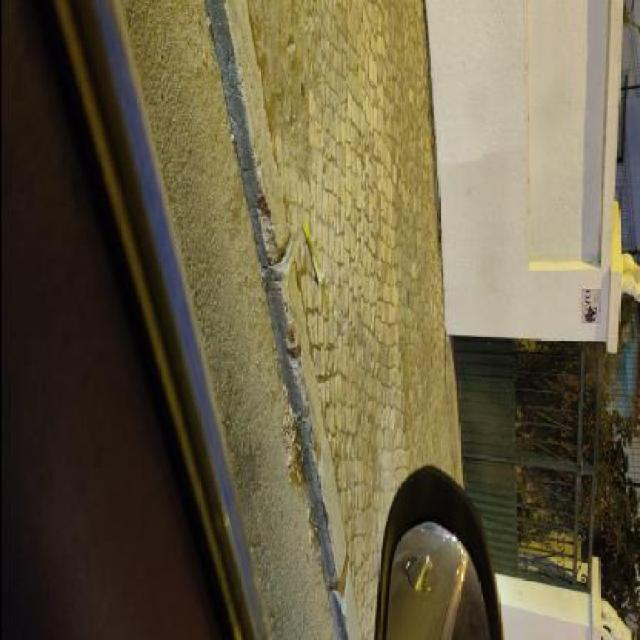cardboard: (300, 216, 322, 286)
